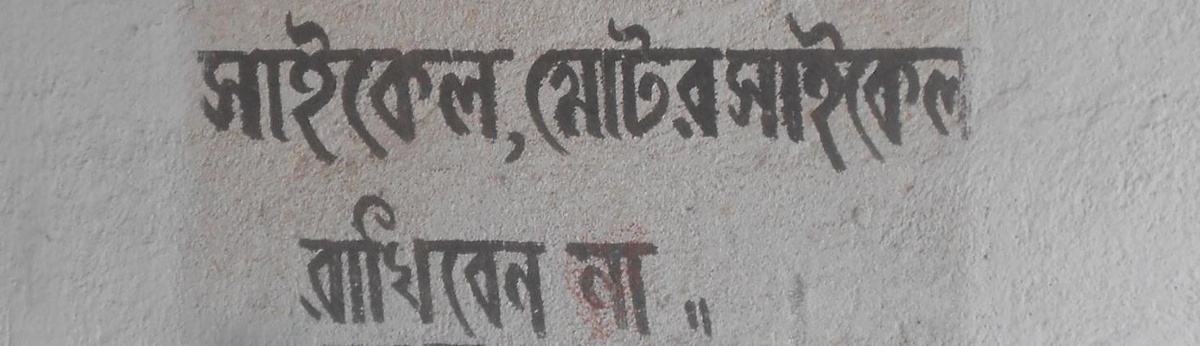text: (737, 12, 752, 172), (753, 12, 768, 172), (769, 12, 784, 172), (785, 12, 800, 172), (801, 12, 816, 172), (817, 12, 832, 172), (833, 12, 848, 172), (849, 12, 864, 172), (865, 12, 880, 172), (881, 12, 896, 172), (897, 12, 912, 172), (913, 12, 928, 172), (929, 12, 944, 172), (945, 12, 960, 172), (209, 11, 224, 167), (225, 11, 240, 167), (241, 11, 256, 167), (257, 11, 272, 167), (273, 11, 288, 167), (289, 11, 304, 167), (305, 11, 320, 167), (321, 11, 336, 167), (337, 11, 352, 167), (353, 11, 368, 167), (369, 11, 384, 167), (385, 11, 400, 167), (401, 11, 416, 167), (417, 11, 432, 167), (433, 11, 448, 167), (449, 11, 464, 167), (465, 11, 480, 167), (481, 11, 496, 167), (497, 11, 512, 167), (513, 11, 527, 167), (305, 196, 320, 339), (321, 196, 336, 339), (337, 196, 352, 339), (353, 196, 368, 339), (369, 196, 384, 339), (385, 196, 400, 339), (401, 196, 416, 339), (417, 196, 432, 339), (433, 196, 448, 339), (449, 196, 464, 339), (465, 196, 480, 339), (481, 196, 496, 339), (497, 196, 512, 339), (513, 196, 528, 339), (529, 196, 544, 339), (529, 17, 544, 154), (545, 17, 560, 154), (561, 17, 576, 154), (577, 17, 592, 154), (593, 17, 608, 154), (609, 17, 624, 154), (625, 17, 640, 154), (641, 17, 656, 154), (657, 17, 672, 154), (673, 17, 688, 154), (689, 17, 704, 154), (705, 17, 720, 154), (961, 12, 973, 172), (725, 12, 736, 172), (197, 11, 208, 167), (577, 241, 592, 334), (593, 241, 608, 334), (609, 241, 624, 334), (625, 241, 640, 334), (641, 241, 656, 334), (565, 241, 576, 334), (545, 196, 550, 339), (300, 196, 304, 339), (721, 17, 725, 154), (526, 17, 528, 154), (657, 241, 658, 334)
